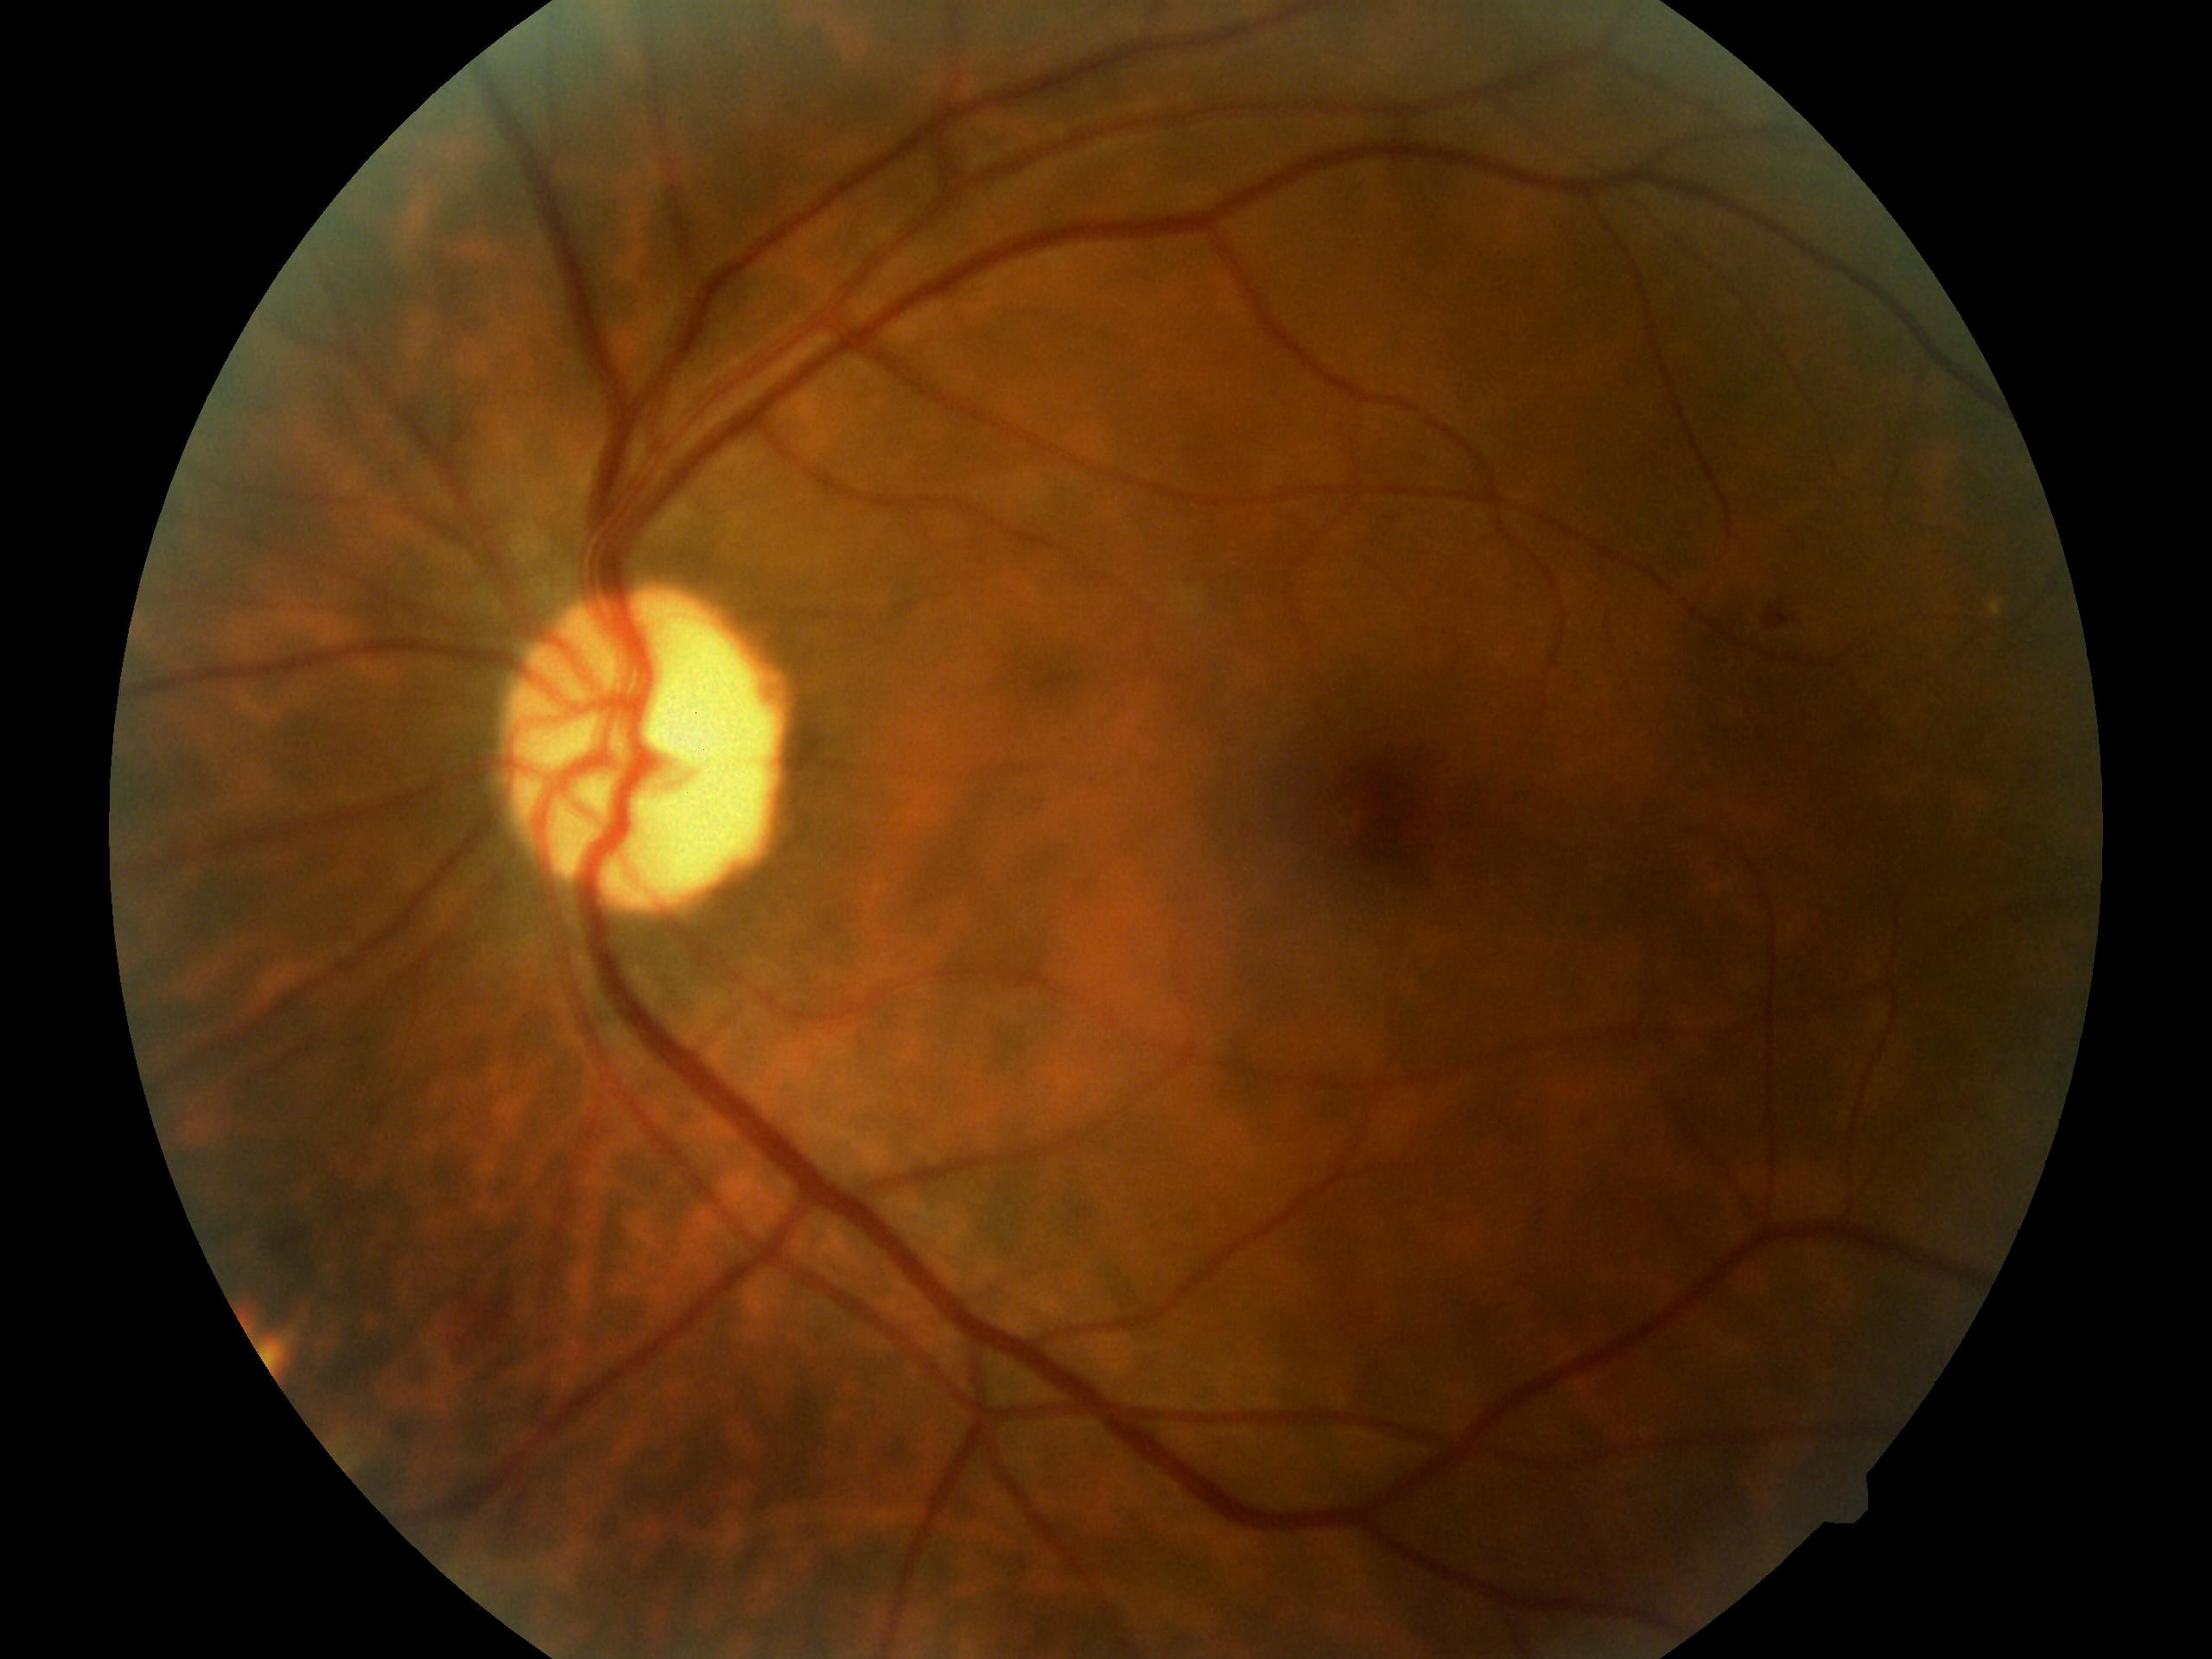Fovea: (1287, 735, 1467, 910)
OD: (482, 582, 812, 929)
